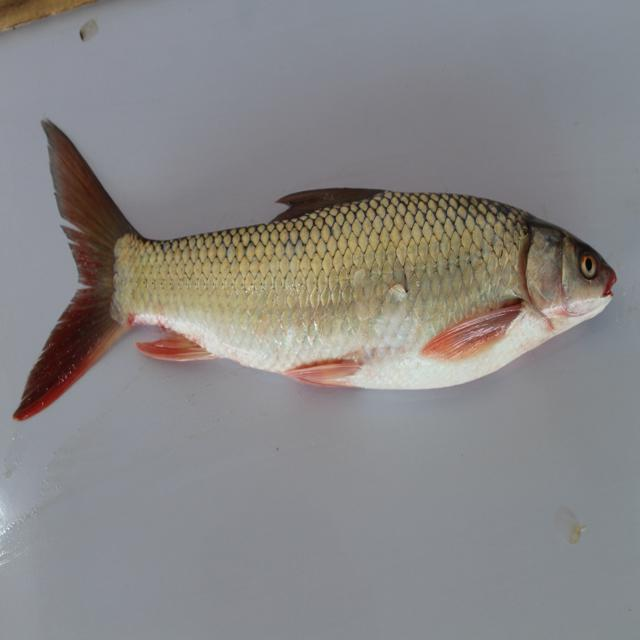Mori: (38, 96, 623, 463)
